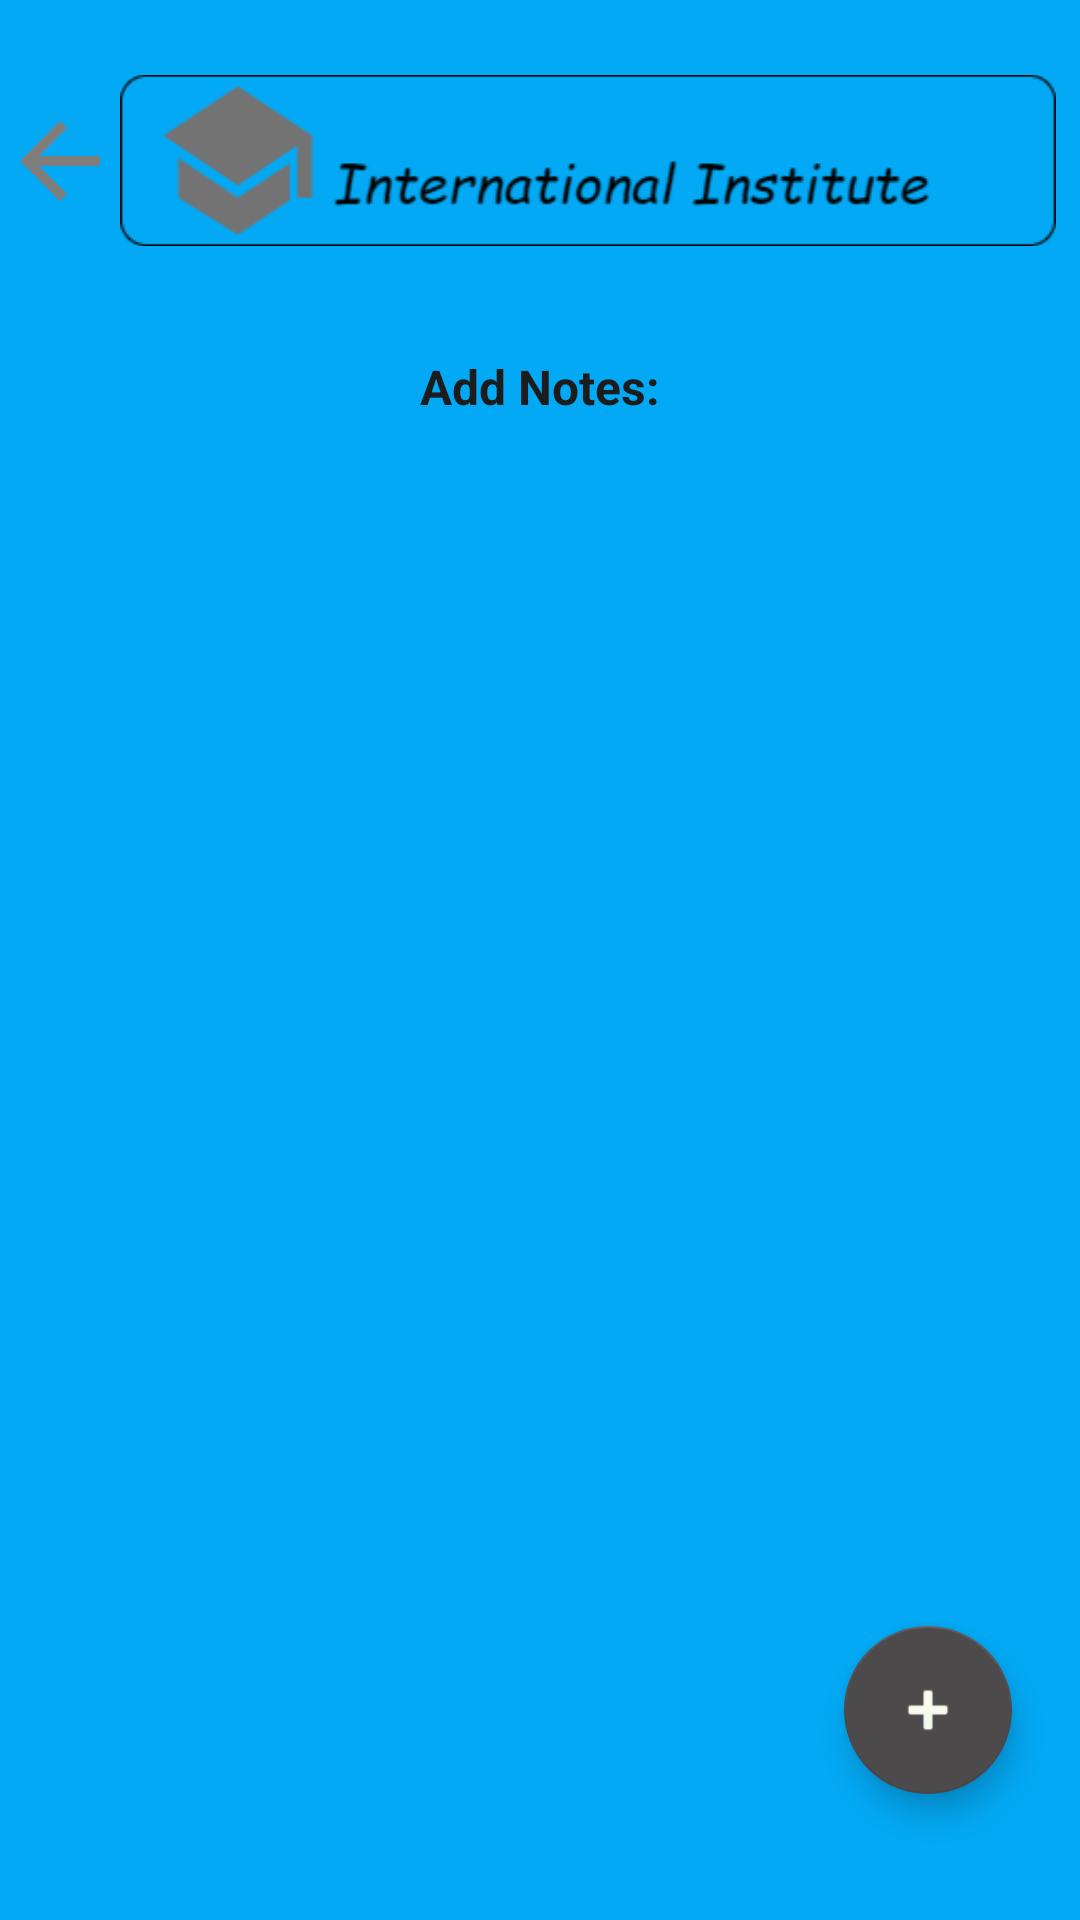

Locate icon controls on the screen. Image size 1080 × 1920, boxes as (x1, y1, x2, y2).
add: (844, 1626, 1012, 1794)
arrow back: (20, 121, 100, 201)
